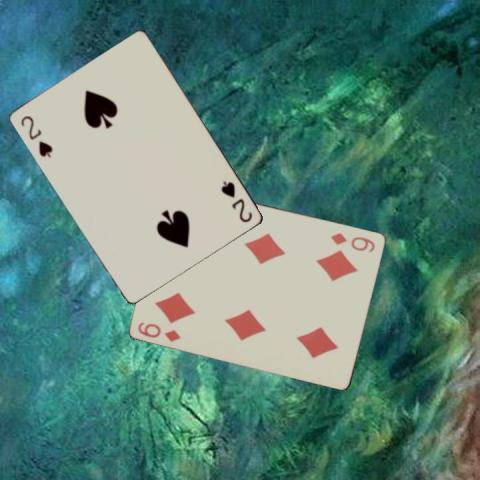2s: (218, 177, 255, 225), (18, 112, 55, 159)
6d: (135, 318, 183, 343), (328, 230, 377, 254)
